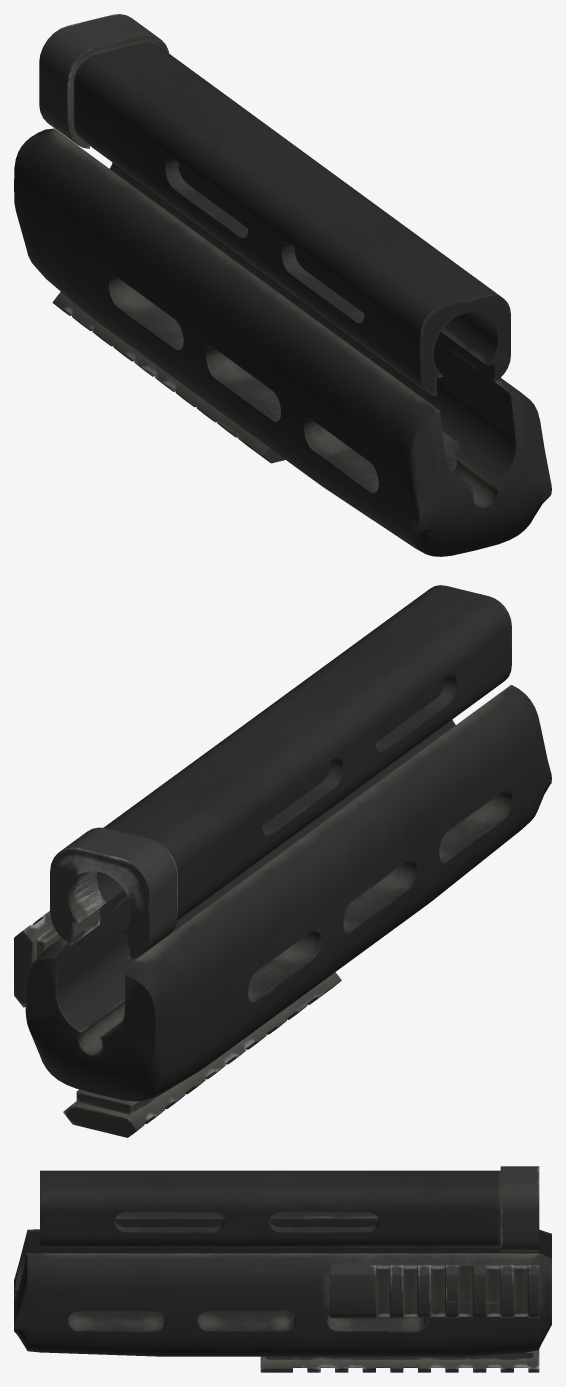
Rendered from guarda_mao_fendas_ak.glb.
3 views of the same model, one above another, from view 1: azimuth 30°, elevation 25°; view 2: azimuth 150°, elevation 25°; view 3: azimuth 270°, elevation 25° (orthographic). The views are drawn at different scales.
Visible parts, largest first — view 1: guarda_mao_fendas_ak_guarda_mao; view 2: guarda_mao_fendas_ak_guarda_mao; view 3: guarda_mao_fendas_ak_guarda_mao.
Boxes of the visible parts, x1=… form: guarda_mao_fendas_ak_guarda_mao: x1=14, y1=14, x2=551, y2=556; guarda_mao_fendas_ak_guarda_mao: x1=14, y1=585, x2=551, y2=1137; guarda_mao_fendas_ak_guarda_mao: x1=14, y1=1166, x2=551, y2=1372.
Size of the model in its own units: 0.043 by 0.0753 by 0.1951.
Materials: 1 (1 with a texture image).
